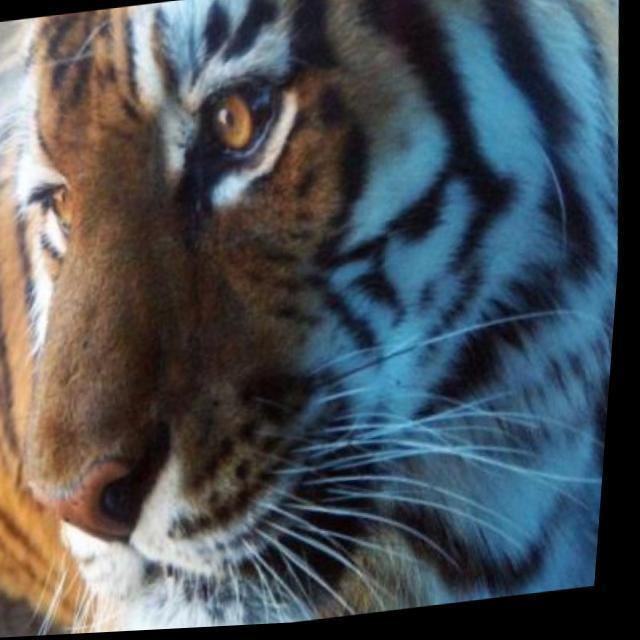tiger: (0, 0, 619, 633)
